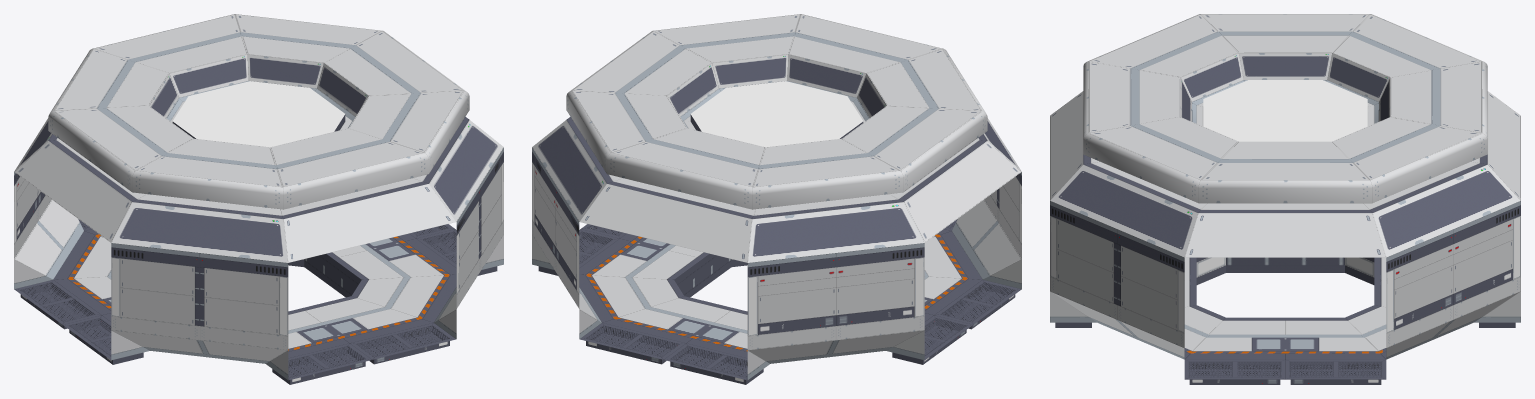
File: Interior_Module_02.FBX
3 views of the same model, side by side, from view 1: azimuth 30°, elevation 25°; view 2: azimuth 150°, elevation 25°; view 3: azimuth 270°, elevation 25° (orthographic). The views are drawn at different scales.
Parts seen in each view (by area): view 1: Interior_Module_02; view 2: Interior_Module_02; view 3: Interior_Module_02.
Boxes of the visible parts, bbox=[...] form: Interior_Module_02: bbox=[14, 14, 503, 384]; Interior_Module_02: bbox=[532, 14, 1021, 384]; Interior_Module_02: bbox=[1050, 14, 1520, 384].
Bounding box in the file's own units: 14 × 7 × 14.
